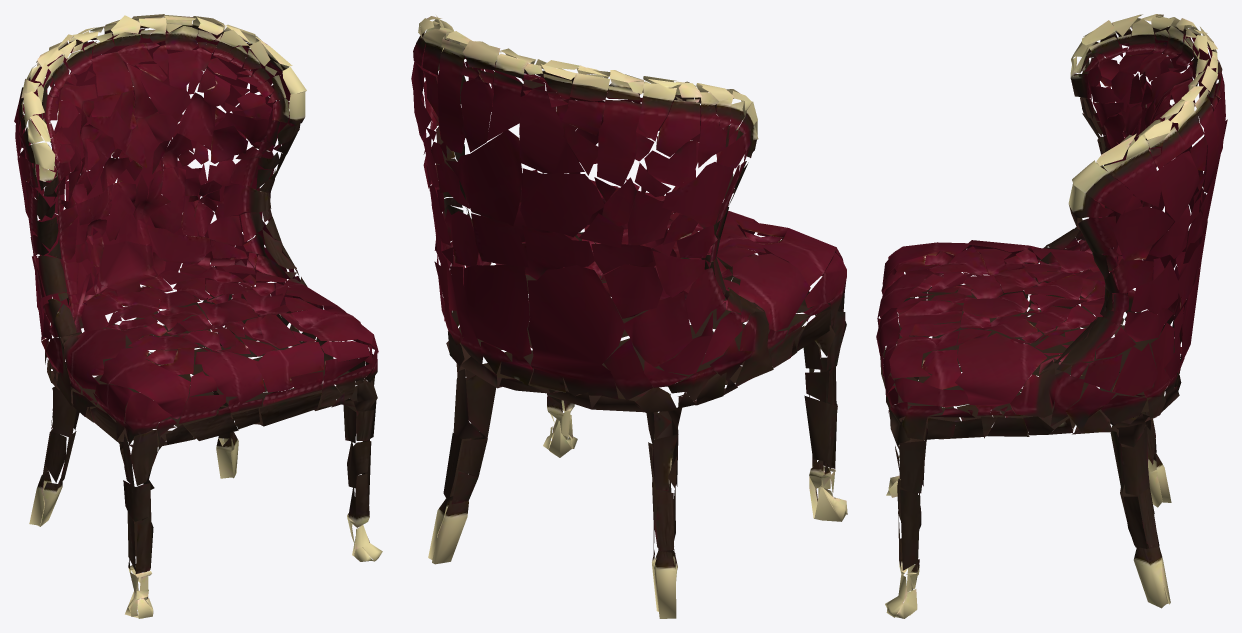
File: chair.glb
3 views of the same model, side by side, from view 1: azimuth 30°, elevation 25°; view 2: azimuth 150°, elevation 25°; view 3: azimuth 270°, elevation 25° (orthographic). The views are drawn at different scales.
Visible parts, largest first — view 1: Mesh_0; view 2: Mesh_0; view 3: Mesh_0.
Boxes of the visible parts, x1,y1,x2,y2 form: Mesh_0: (14,14,382,618); Mesh_0: (411,15,847,618); Mesh_0: (876,14,1227,618).
Bounding box in the file's own units: 0.6925 × 1.15 × 0.7251.
1 material, 1 textured.
